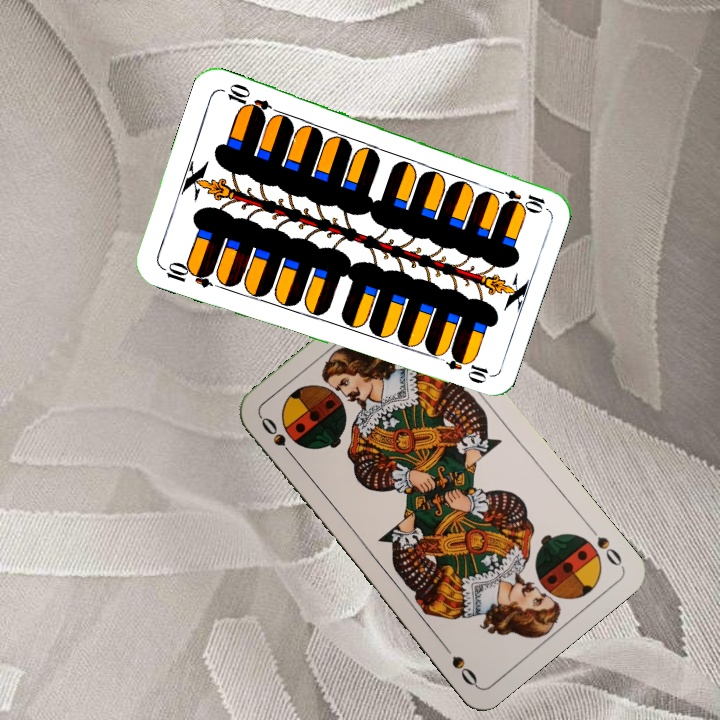E10: (157, 257, 215, 291), (489, 184, 548, 212)
SO: (256, 412, 299, 462), (583, 520, 625, 569)
